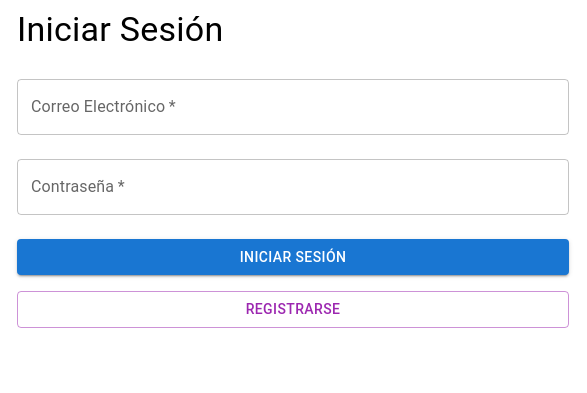
Test: Login Component › debería mostrar un mensaje de error al ingresar credenciales inválidas
In the field labelled "Correo Electrónico *": (293, 107) [17,79,569,135], type "test@test.com"
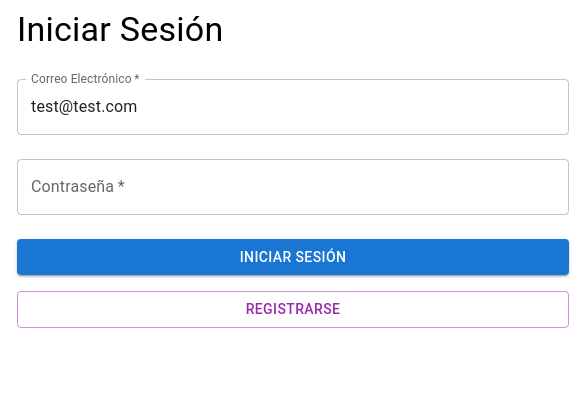
In the password field labelled "Contraseña *": (293, 187) [17,159,569,215], type "wrongpassword"
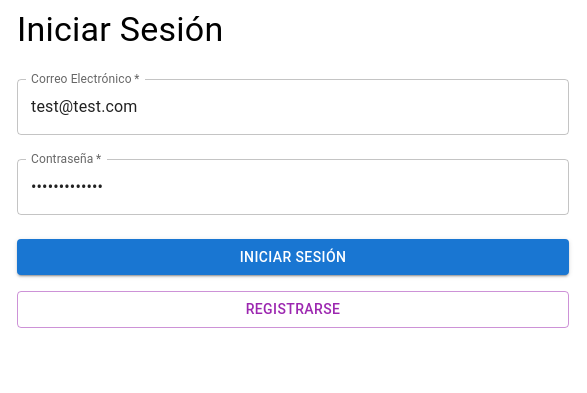
Click the button "Iniciar Sesión": (293, 257) [17,239,569,275]
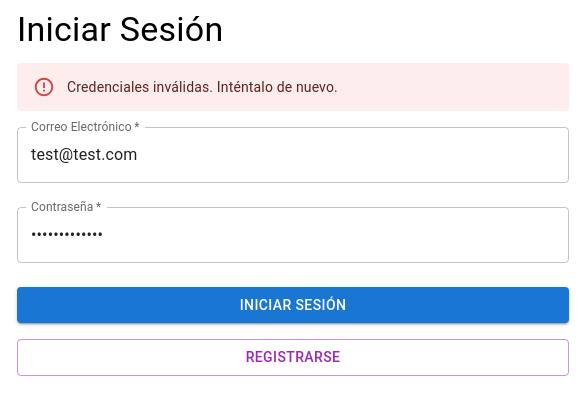
Check: the text "Credenciales inválidas. Inténtalo de nuevo." is shown, box [67,79,338,95]
